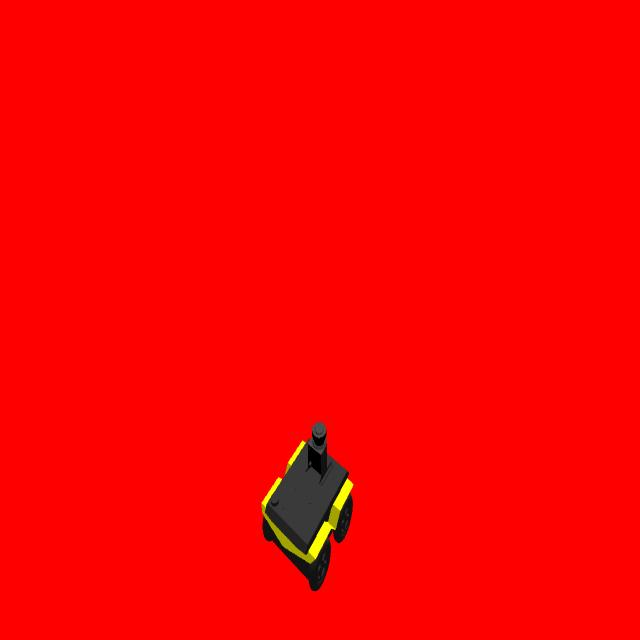jackal: (262, 417, 354, 593)
